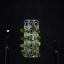leaf: (31, 25, 36, 31), (20, 36, 26, 41), (21, 50, 26, 56), (26, 53, 31, 59), (32, 46, 37, 52), (31, 35, 36, 40), (20, 29, 26, 33), (36, 28, 40, 34), (27, 35, 31, 41), (20, 44, 26, 48), (37, 42, 41, 48), (36, 36, 41, 40), (26, 44, 31, 48), (37, 53, 41, 57), (33, 52, 37, 55), (26, 30, 29, 33)
